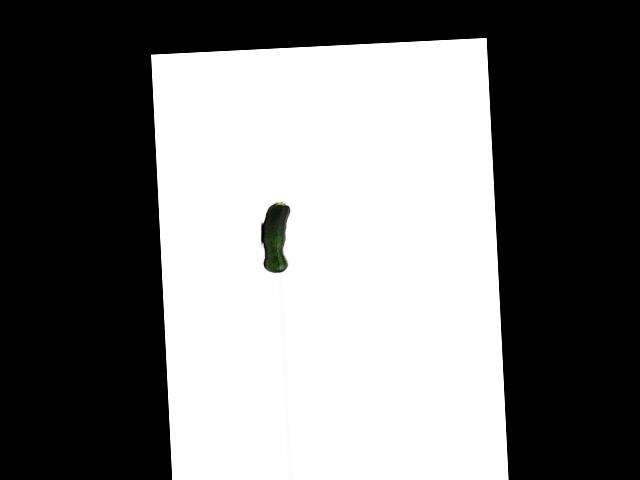cucumber: (260, 201, 293, 272)
